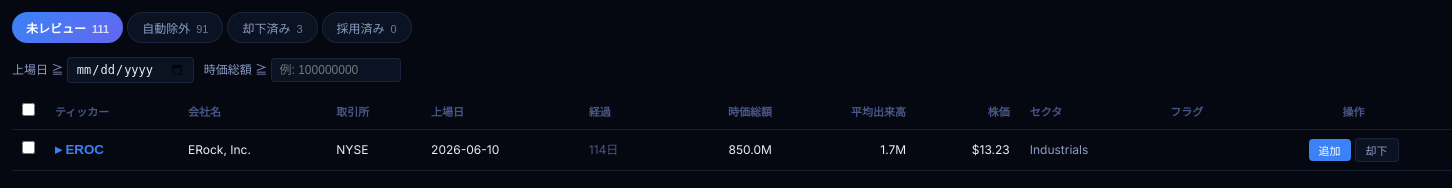
Test: UniverseCandidatesPage › 自動除外タブに切り替えると SPAC フラグが見える
Check: the text "ERock, Inc." is shown, box [178,129,326,170]
Click the button "自動除外91": click(175, 28) [127,12,224,43]
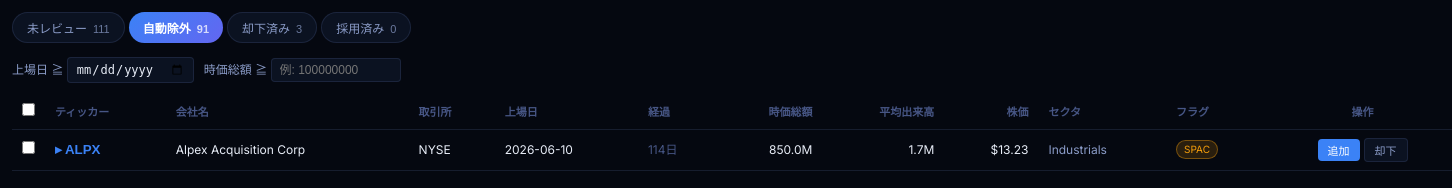
Check: the text "Alpex Acquisition Corp" is shown, box [166,129,409,170]
Check: the text "SPAC" is shown, box [1176,140,1218,159]
